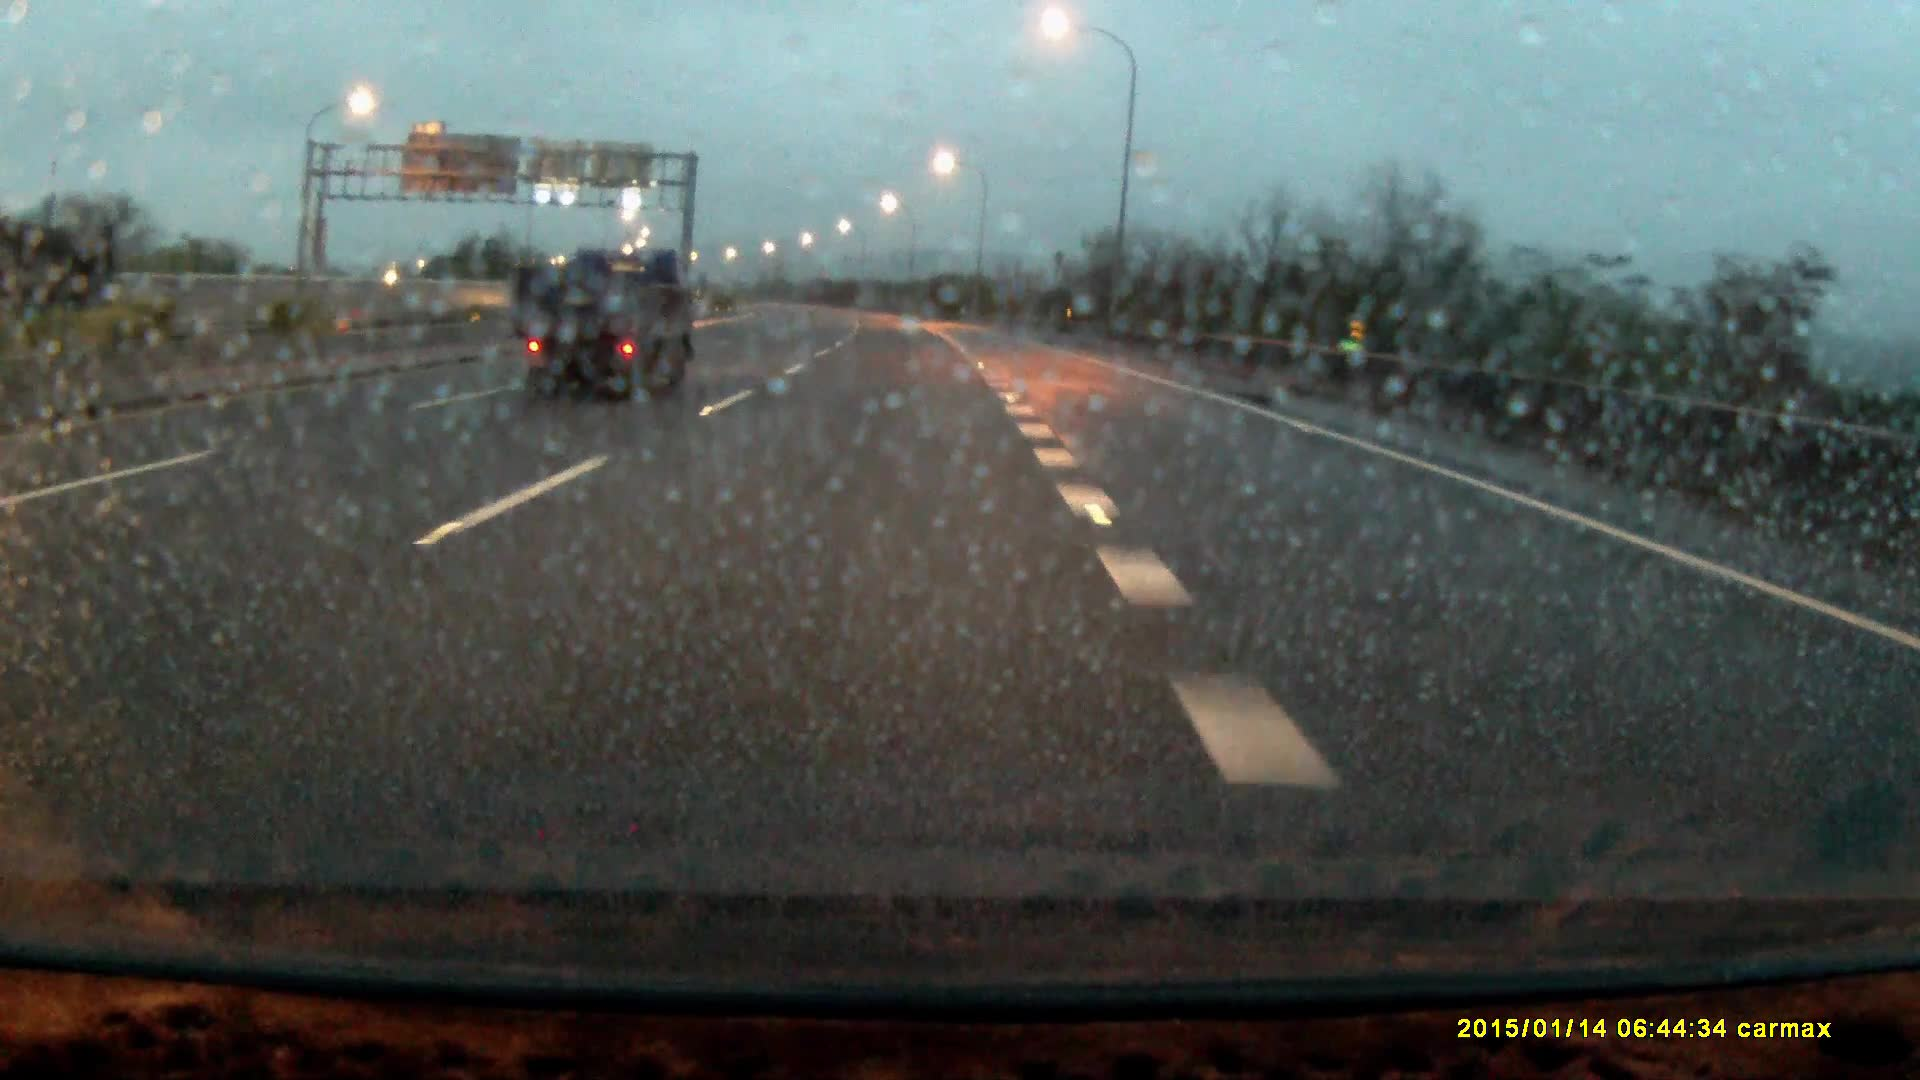vehicle: (517, 251, 702, 404)
